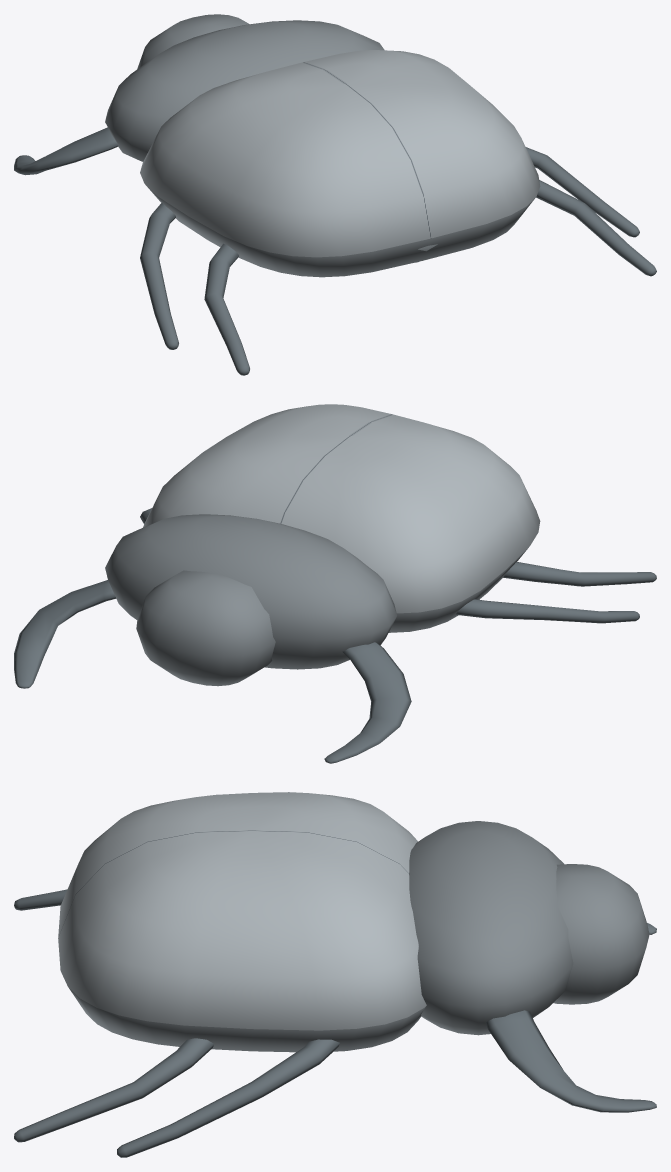
Rendered from beetle.glb.
The picture shows the model from 3 angles, top to bottom: view 1: azimuth 30°, elevation 25°; view 2: azimuth 150°, elevation 25°; view 3: azimuth 270°, elevation 25°; orthographic projection. The views are drawn at different scales.
Parts seen in each view (by area): view 1: WingShell, Thorax, Leg_Middle_L, Leg_Rear_L, Leg_Rear_R, Leg_Middle_R, Arm_L, Head; view 2: WingShell, Thorax, Head, Arm_L, Arm_R, Leg_Middle_L, Leg_Rear_L; view 3: WingShell, Thorax, Head, Arm_R, Leg_Middle_R, Leg_Rear_R, Leg_Rear_L.
Boxes of the visible parts, x1,y1,x2,y2 form: WingShell: (140, 50, 540, 277); Thorax: (105, 20, 384, 161); Leg_Middle_L: (140, 202, 178, 349); Leg_Rear_L: (204, 243, 249, 375); Leg_Rear_R: (536, 180, 656, 276); Leg_Middle_R: (525, 147, 639, 237); Arm_L: (14, 127, 118, 175); Head: (137, 14, 249, 69); WingShell: (143, 404, 540, 632); Thorax: (105, 514, 396, 669); Head: (136, 570, 275, 686); Arm_L: (324, 642, 411, 763); Arm_R: (14, 580, 115, 688); Leg_Middle_L: (456, 599, 639, 623); Leg_Rear_L: (503, 562, 656, 586); WingShell: (58, 792, 426, 1052); Thorax: (409, 821, 573, 1035); Head: (553, 864, 649, 1004); Arm_R: (485, 1010, 656, 1112); Leg_Middle_R: (117, 1039, 339, 1157); Leg_Rear_R: (14, 1038, 213, 1142); Leg_Rear_L: (14, 889, 67, 910).
Bounding box in the file's own units: 2.79 × 0.9413 × 2.82.
Materials: 3 (1 with a texture image).
